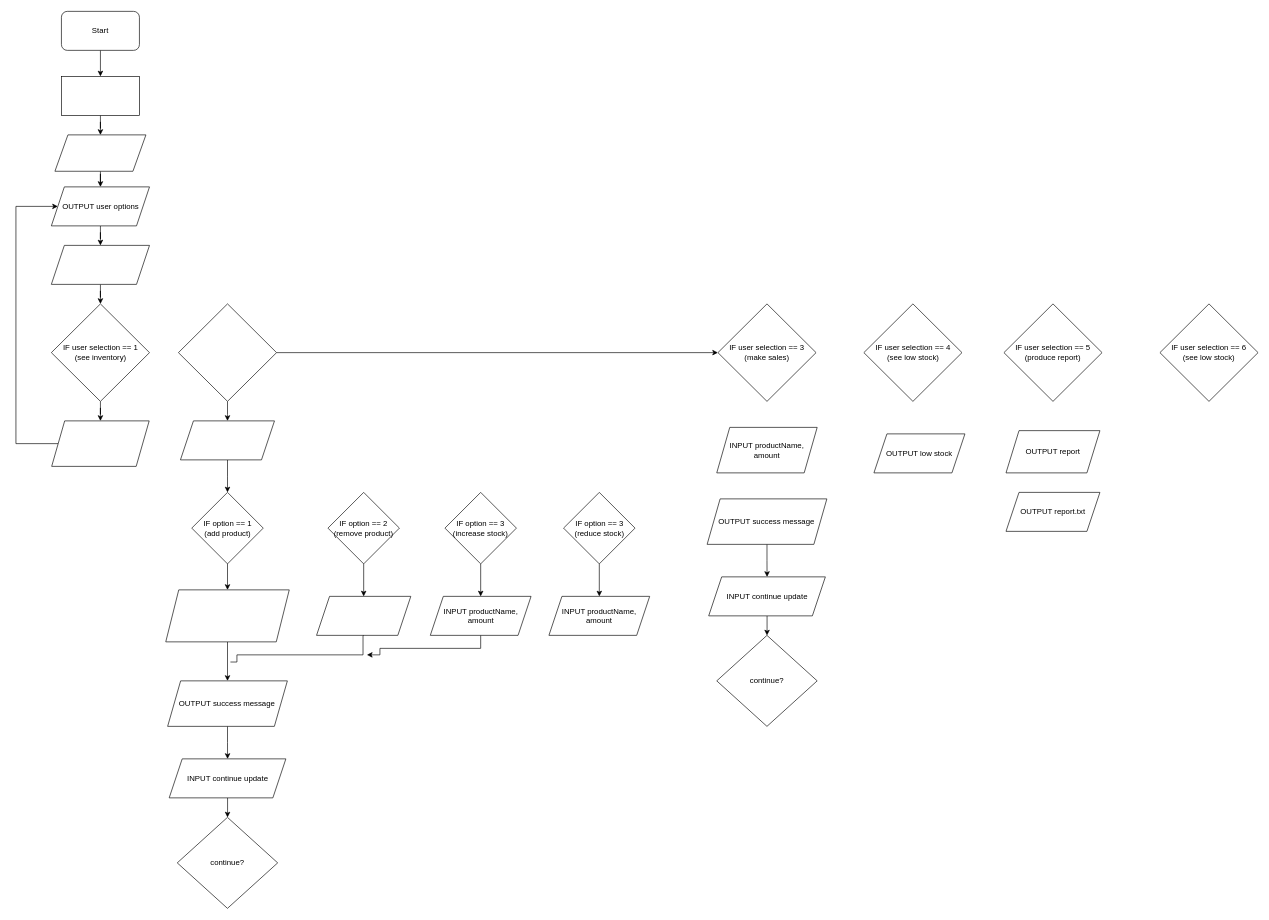
Some shapes in this 1269 by 920 pixel diagram are drawn without their labels. The shapes that lost their labels are listed below. From the top down, each one's box as (x1, y1, x2, y2) in pixels, then its label:
(61, 76, 139, 115): Load inventory from file
(54, 134, 146, 171): OUTPUT Welcome Message
(51, 245, 150, 284): INPUT User Selection
(178, 303, 277, 401): IF user selection == 2 (update inventory)
(51, 420, 149, 466): OUTPUT inventory
(180, 420, 274, 460): INPUT more options
(165, 589, 289, 642): INPUT productType, name, supplier, price, amount, minAmount, sales, opt1, opt2
(316, 596, 411, 635): INPUT productName
